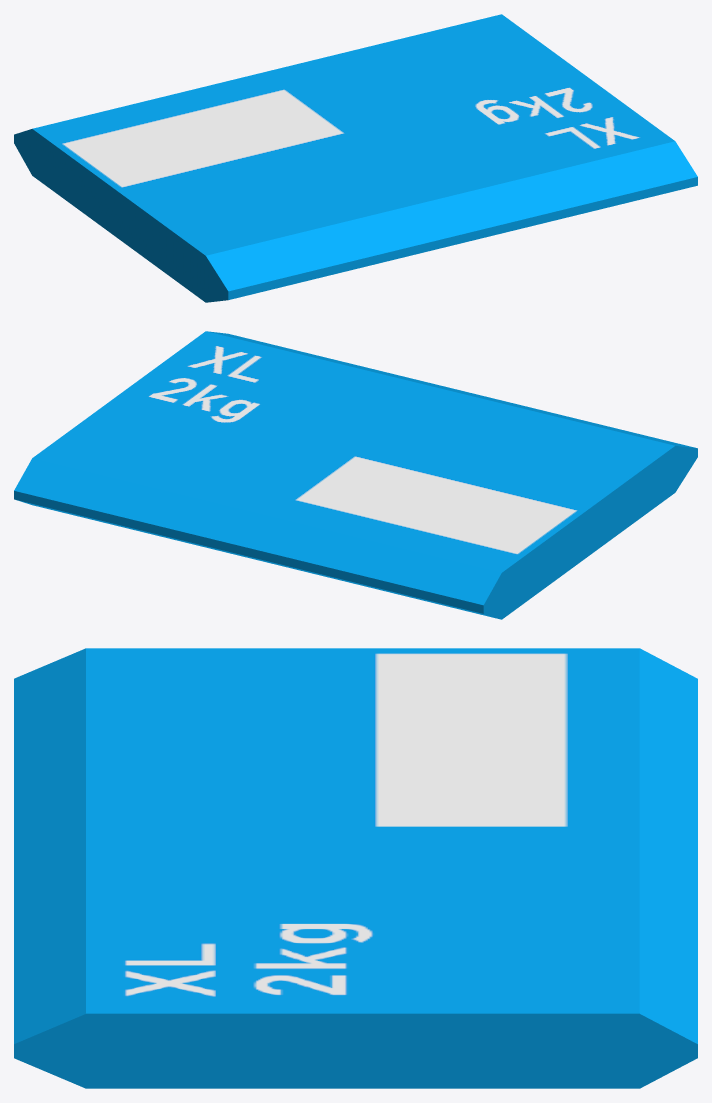
Rendered from Package3.fbx.
3 renders of one model, top to bottom at view 1: azimuth 30°, elevation 25°; view 2: azimuth 150°, elevation 25°; view 3: azimuth 270°, elevation 25°, orthographic. The views are drawn at different scales.
Parts seen in each view (by area): view 1: Package1; view 2: Package1; view 3: Package1.
Part boxes in pixels (x1,y1,x2,y2): Package1: (14, 14, 697, 302); Package1: (14, 331, 697, 619); Package1: (14, 648, 697, 1088).
Bounding box in the file's own units: 69.81 × 6.67 × 55.2.
Materials: 1 (1 with a texture image).
